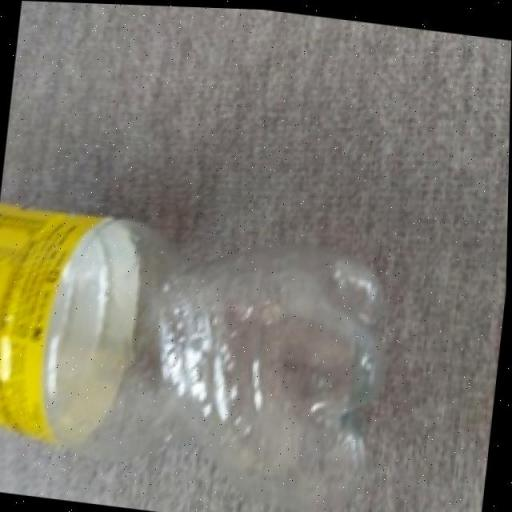plastic: (0, 197, 426, 512)
